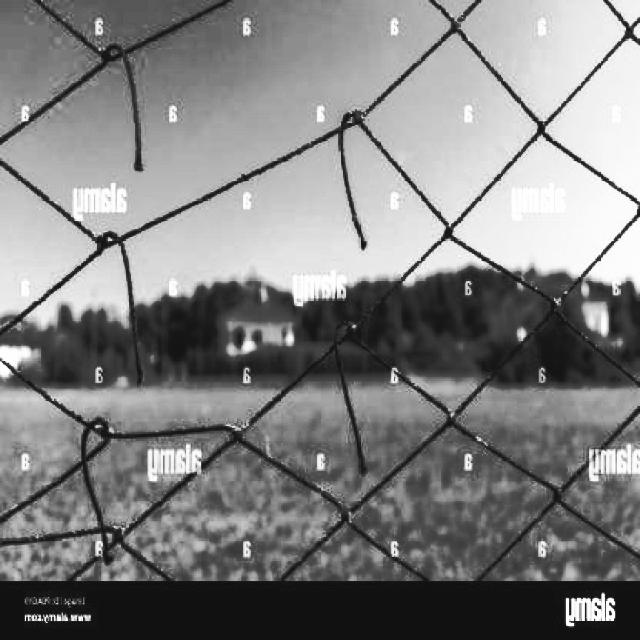anomaly-fence: (0, 0, 601, 515)
